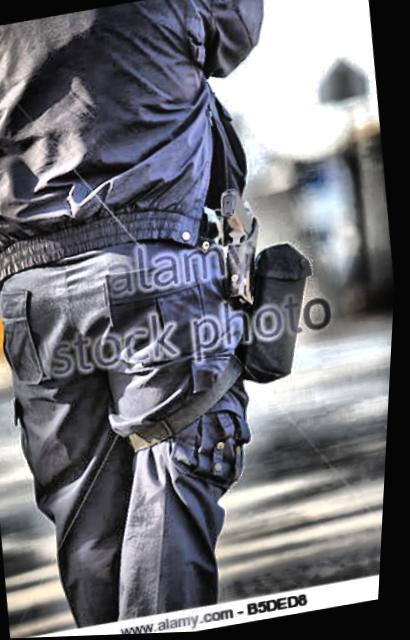pistol: (212, 184, 272, 307)
